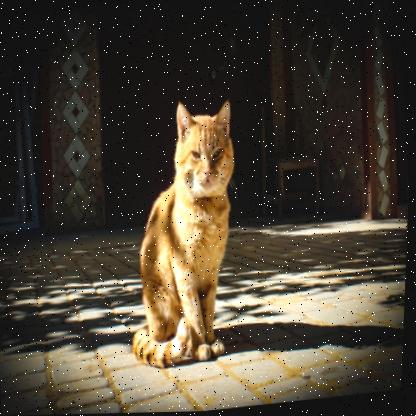cat: (123, 100, 252, 364)
